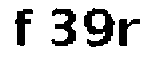3: (44, 5, 78, 52)
9: (81, 6, 115, 52)
f: (9, 9, 38, 48)
r: (116, 17, 141, 48)
